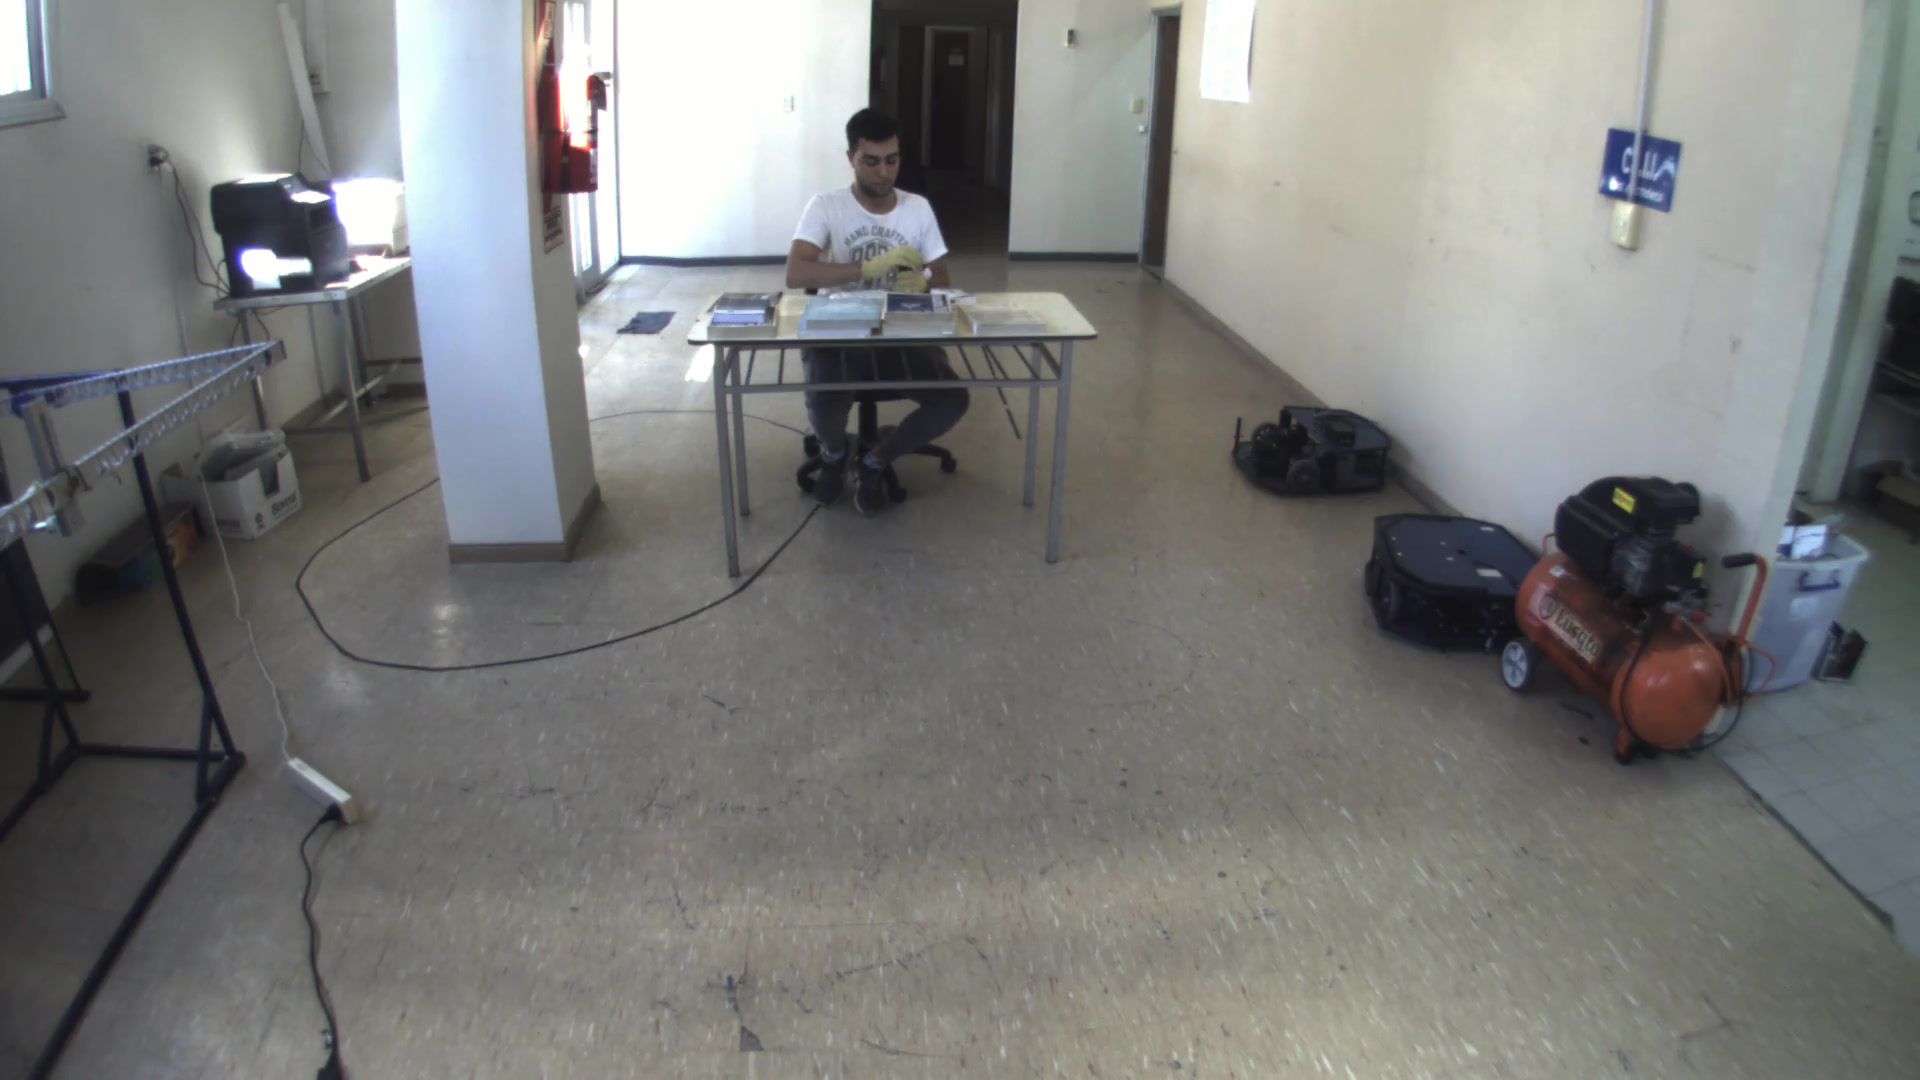hand: (855, 245, 928, 280), (885, 269, 934, 299)
